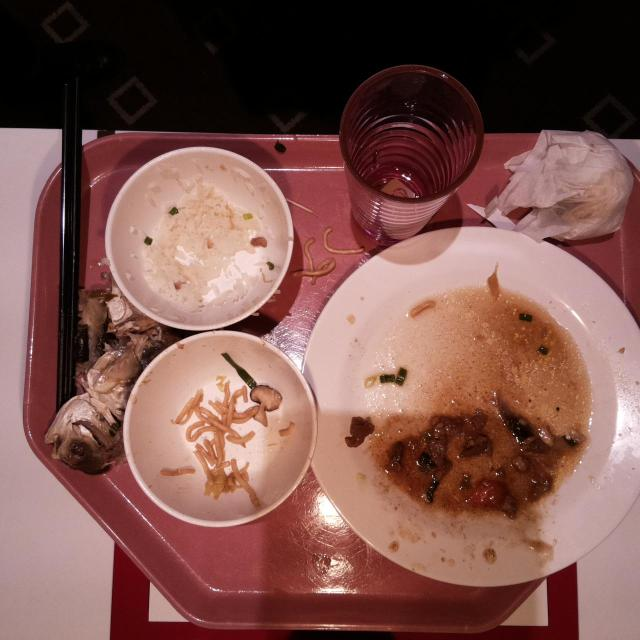Bone-fish: (77, 287, 139, 394)
Noodle: (177, 391, 259, 497)
Rice: (144, 183, 248, 309)
